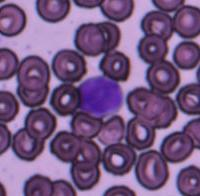L: (78, 75, 124, 119)
